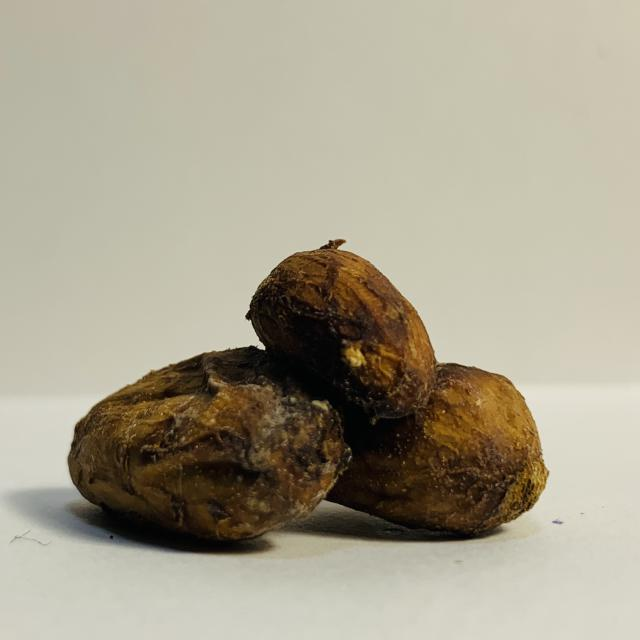Agglomerated_cocoabeans: (0, 240, 603, 578)
